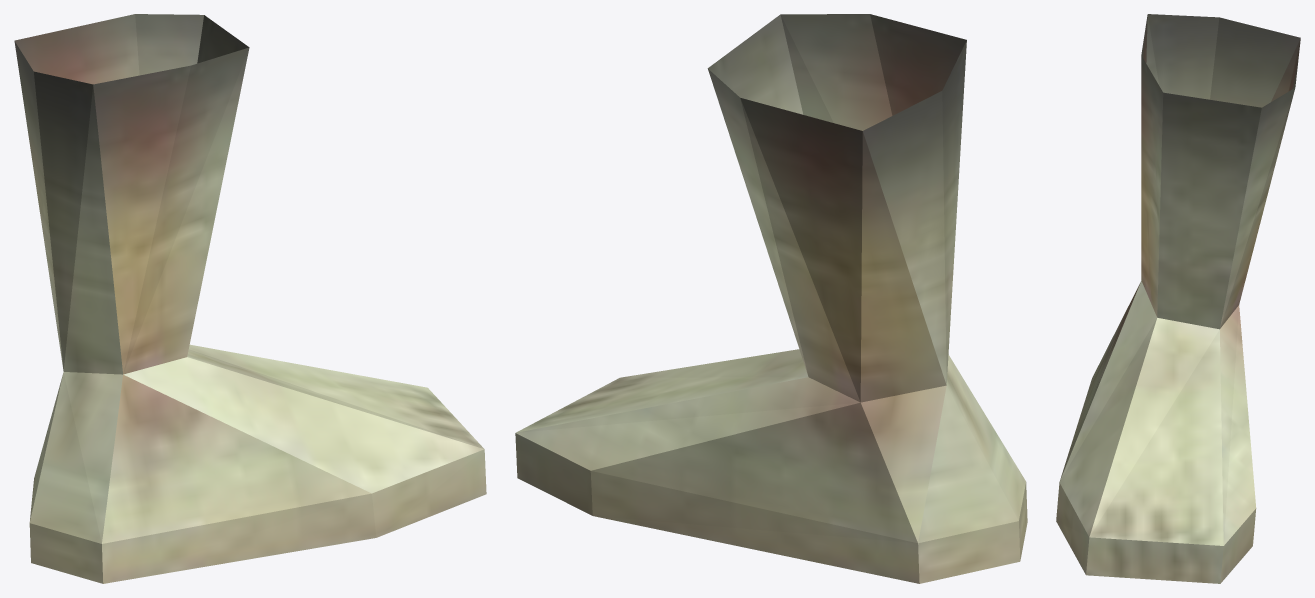
File: zombie_foot.dae
3 renders of one model, left to right at view 1: azimuth 30°, elevation 25°; view 2: azimuth 150°, elevation 25°; view 3: azimuth 270°, elevation 25°, orthographic. The views are drawn at different scales.
Visible parts, largest first — view 1: Regroup02_Regroup02; view 2: Regroup02_Regroup02; view 3: Regroup02_Regroup02.
Boxes of the visible parts, x1=… form: Regroup02_Regroup02: x1=14, y1=14, x2=486, y2=583; Regroup02_Regroup02: x1=515, y1=14, x2=1027, y2=583; Regroup02_Regroup02: x1=1056, y1=14, x2=1300, y2=583.
Size of the model in its own units: 0.5302 by 0.2976 by 0.5496.
Materials: 1 (1 with a texture image).
